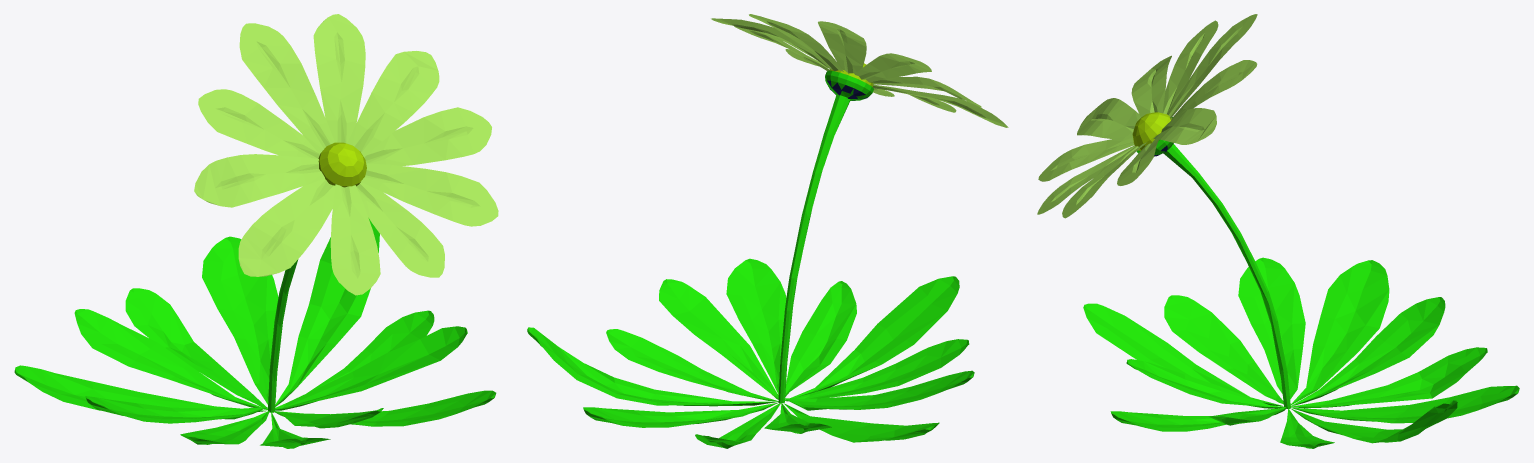
Rendered from Daisy_LP_2.fbx.
3 renders of one model, left to right at view 1: azimuth 30°, elevation 25°; view 2: azimuth 150°, elevation 25°; view 3: azimuth 270°, elevation 25°, orthographic. The views are drawn at different scales.
Parts seen in each view (by area): view 1: Daisy_LP_2; view 2: Daisy_LP_2; view 3: Daisy_LP_2.
Boxes of the visible parts, x1,y1,x2,y2 form: Daisy_LP_2: (14,14,498,448); Daisy_LP_2: (527,14,1008,448); Daisy_LP_2: (1037,14,1519,448).
Size of the model in its own units: 222 by 218 by 253.
